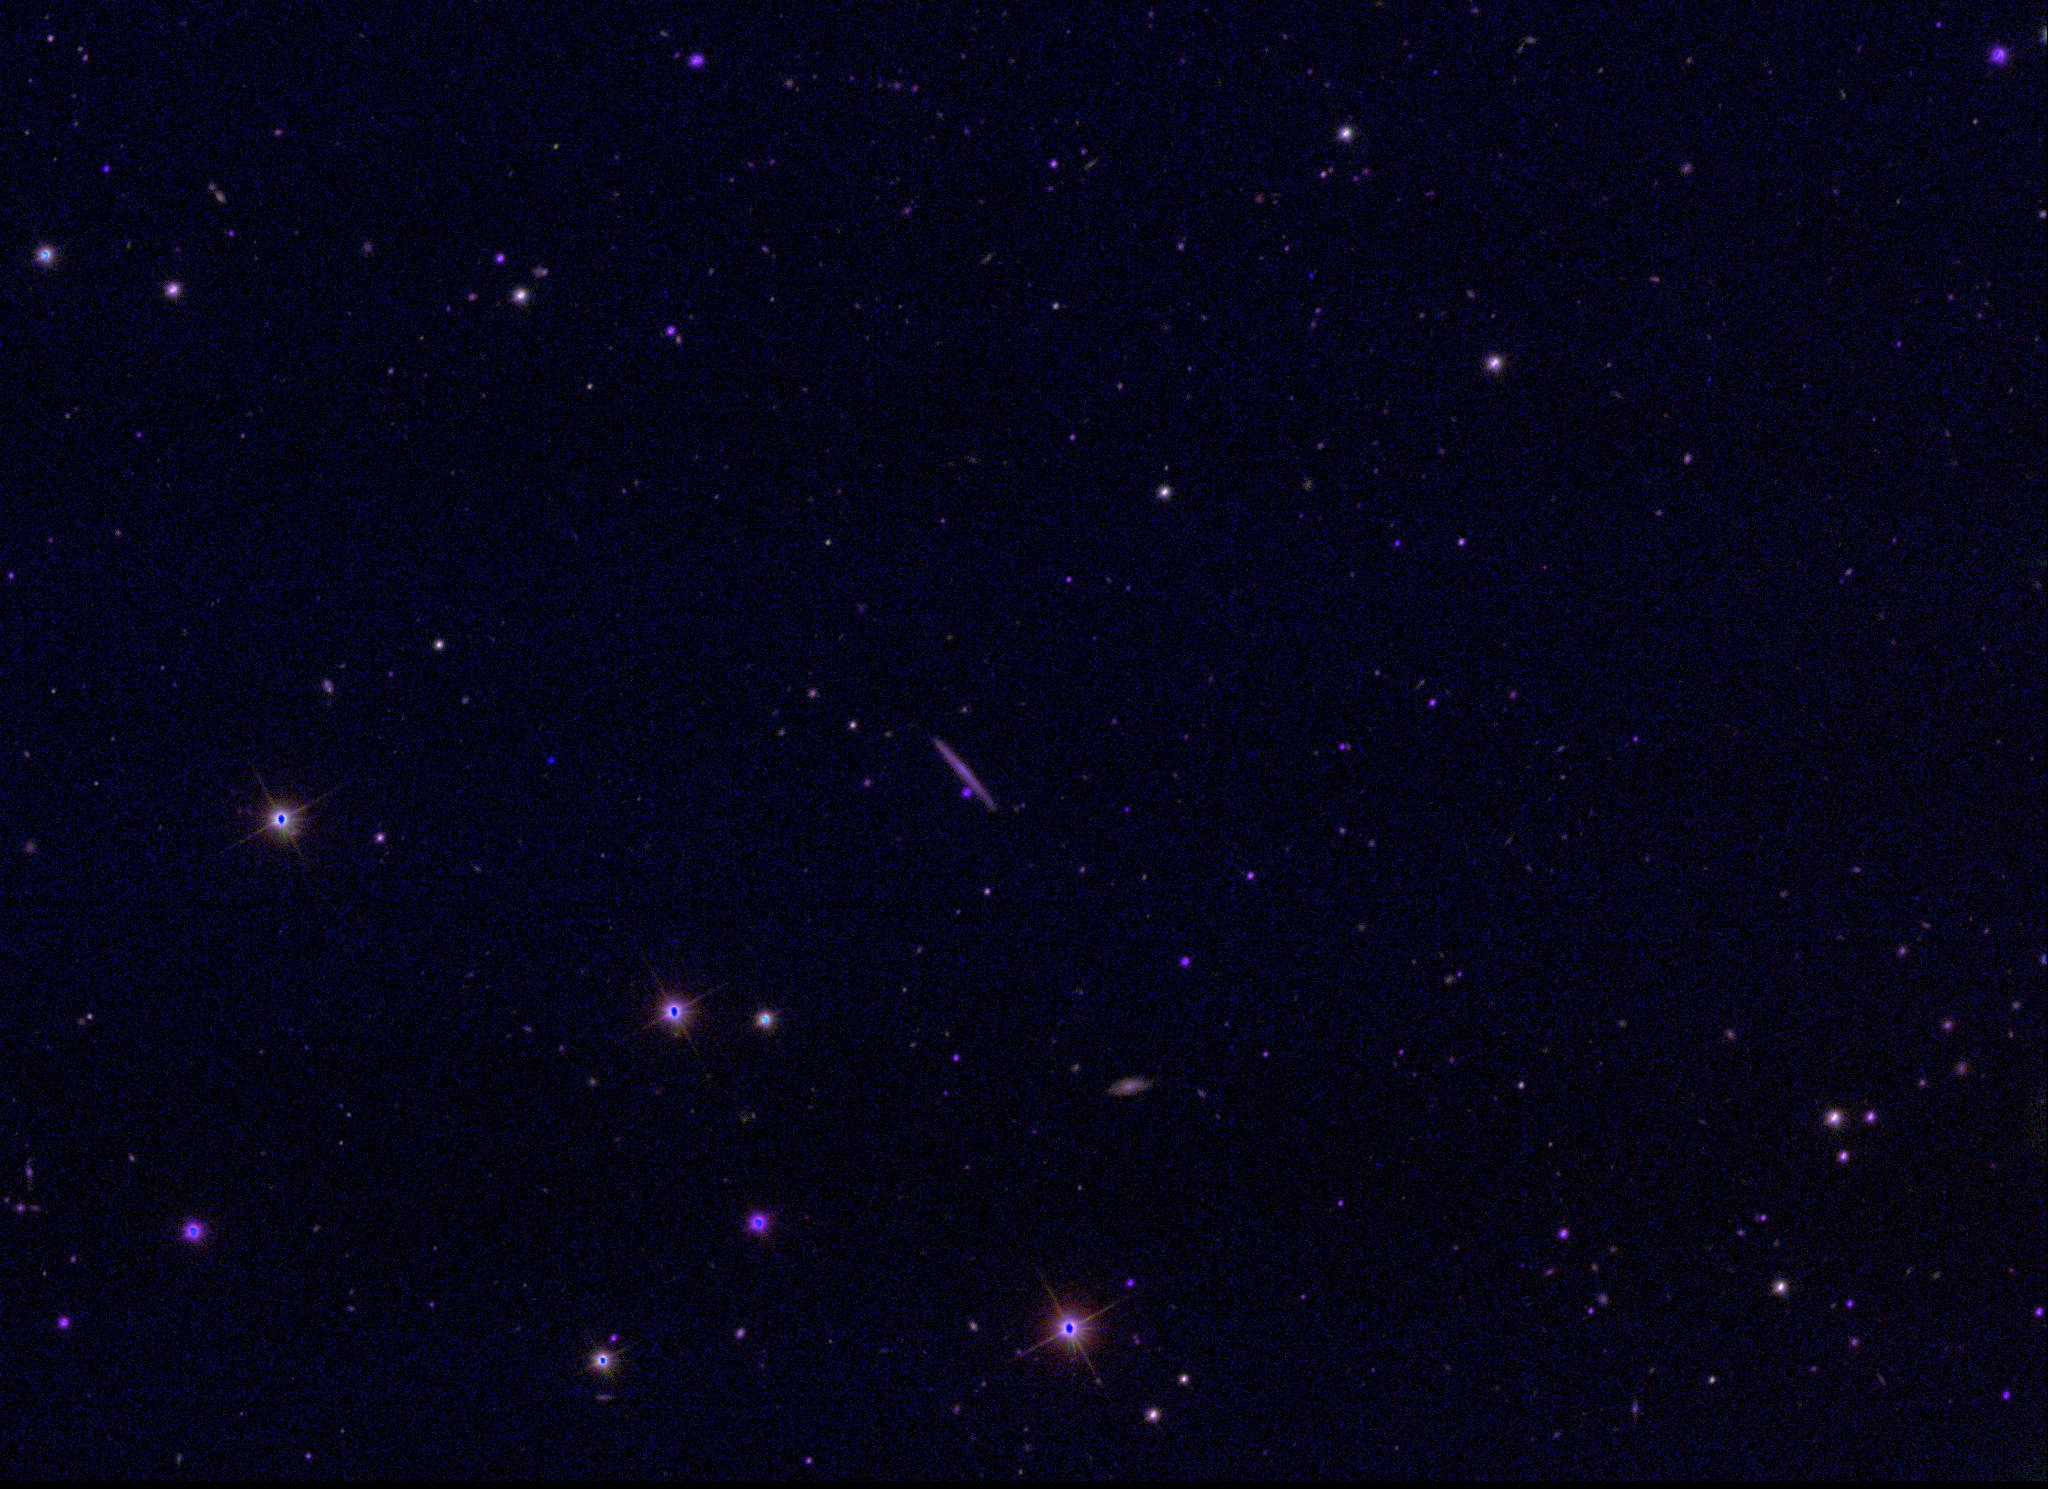L: (545, 752, 560, 767)
